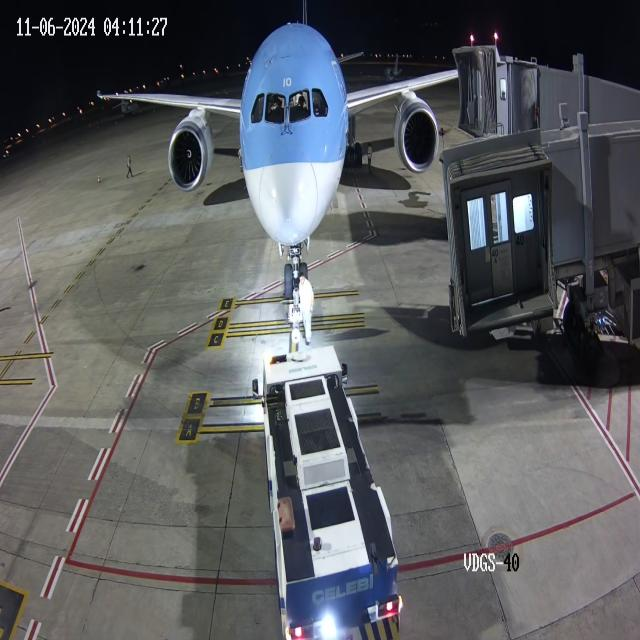bridge: (491, 24, 545, 146)
plane: (92, 10, 442, 302)
window: (248, 81, 332, 137)
